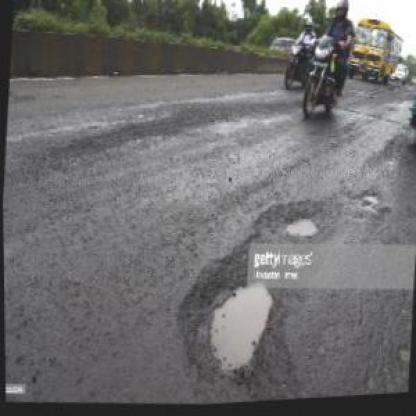pothole: (168, 250, 308, 406), (245, 194, 333, 251), (350, 190, 384, 225)
